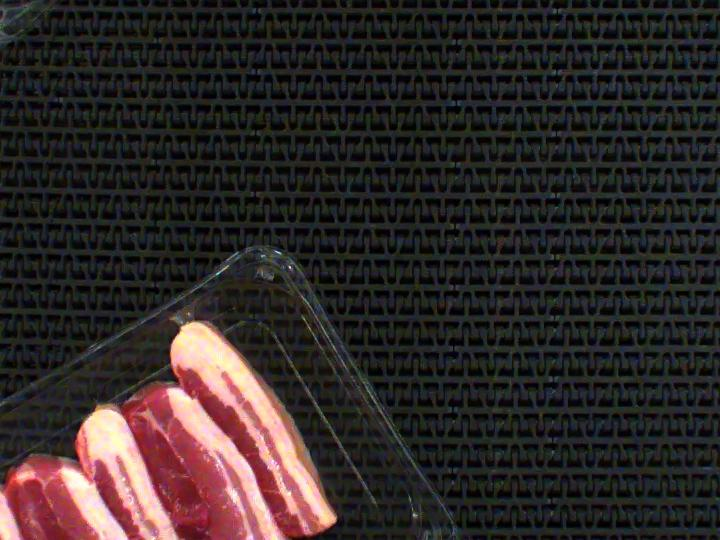packaging-error: (166, 303, 203, 331)
